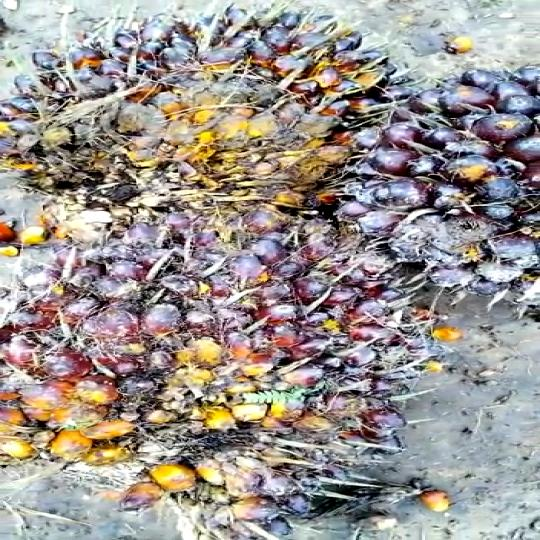kurang masak: (0, 204, 414, 540), (0, 1, 367, 279), (317, 64, 540, 320)
